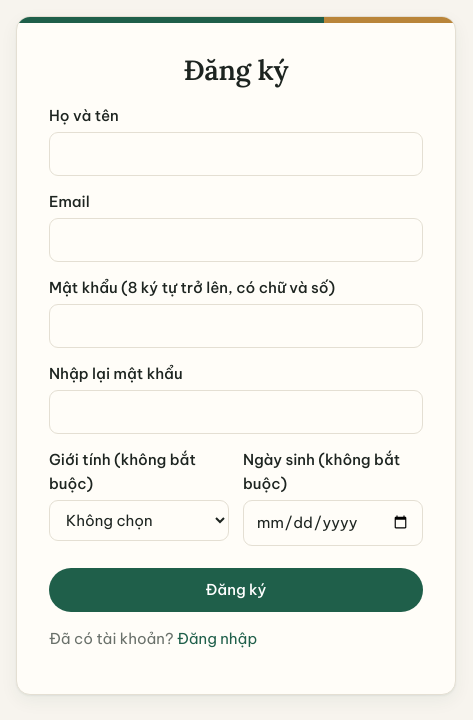
Test: RegisterPage › gửi giới tính đã chọn và hiện lỗi của backend
Type " Khách Mới " into the field labelled "Họ và tên" at (236, 154), box [49,132,423,176]
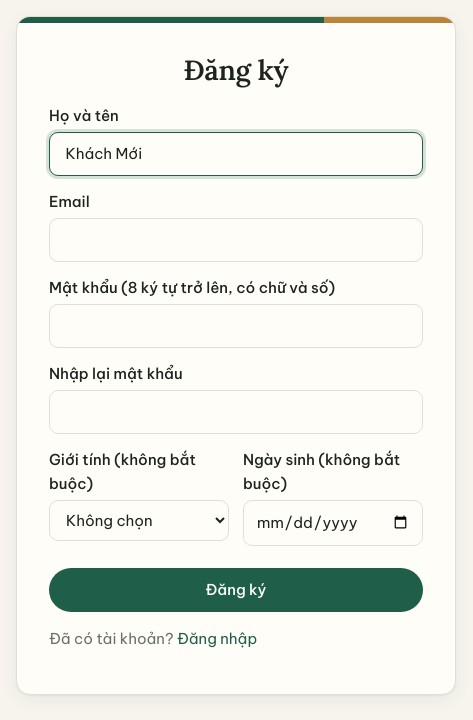
Type "moi@example.com" into the field labelled "Email" at (236, 240), box [49,218,423,262]
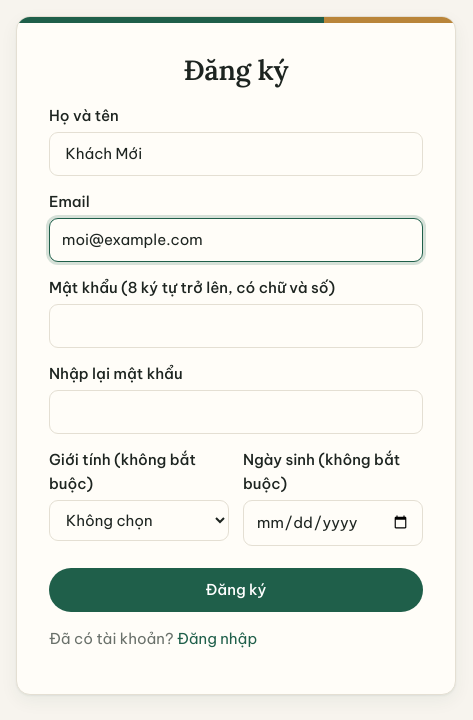
Type "MatKhau123" into the password field labelled "Mật khẩu (8 ký tự trở lên, có chữ và số)" at (236, 326), box [49,304,423,348]
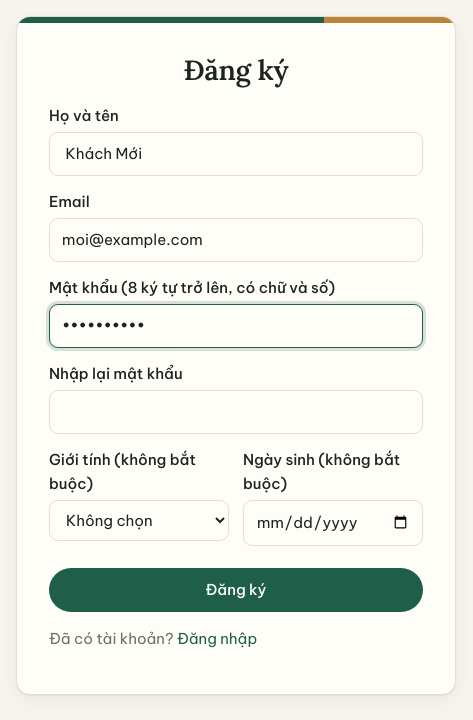
Type "MatKhau123" into the password field labelled "Nhập lại mật khẩu" at (236, 412), box [49,390,423,434]
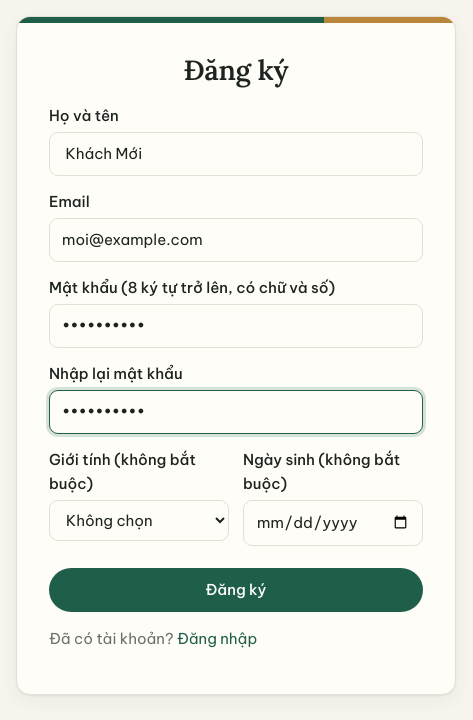
Select "Nữ" in the dropdown labelled "Giới tính (không bắt buộc)" at (139, 520), box [49,500,229,541]
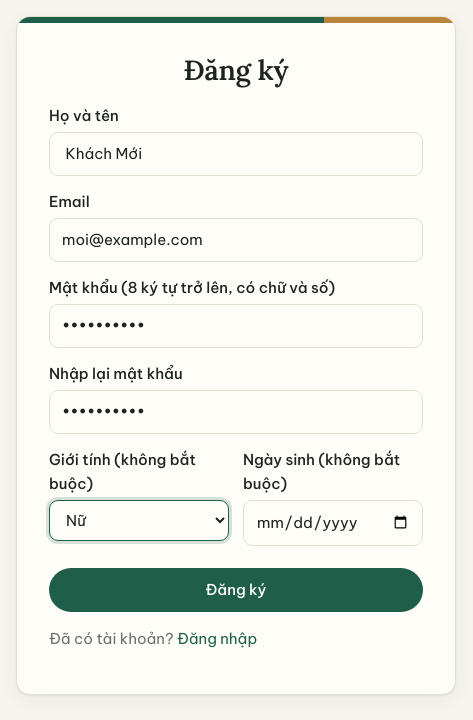
Click the button "Đăng ký" at (236, 590), box [49,568,423,612]
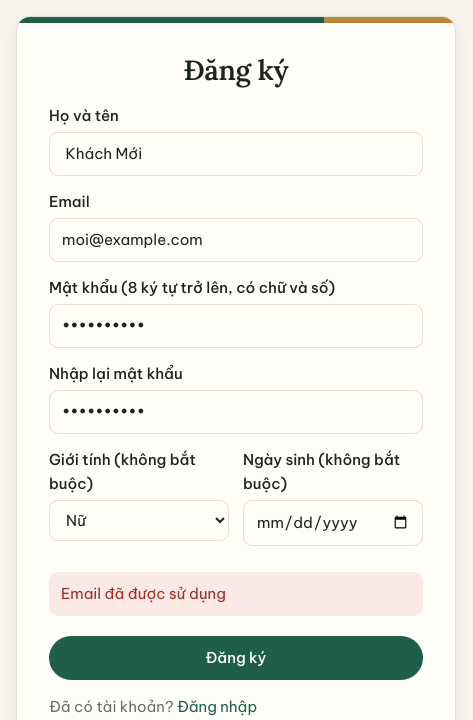
Result: the text "Email đã được sử dụng" is shown at [49,572,423,616]
